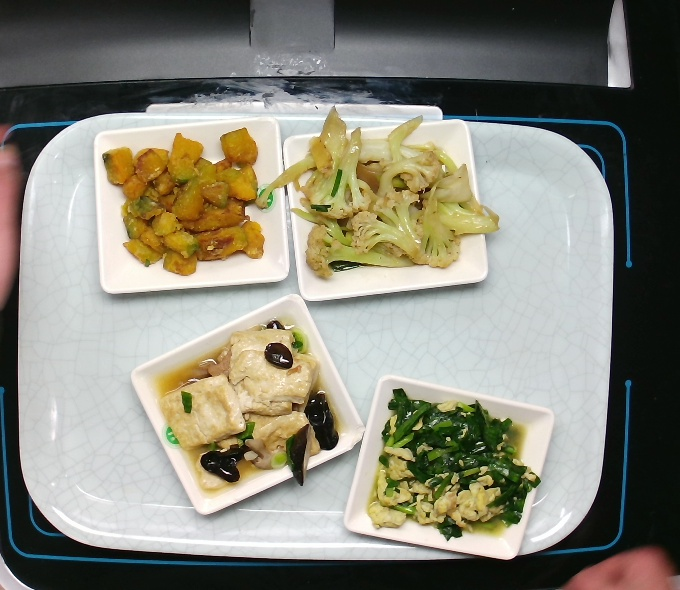wcq-DanHuangNanGua: (84, 108, 273, 282)
wcq-JiaChangDouFu: (153, 322, 342, 496)
wcq-JiuCaiJiDan: (353, 365, 542, 539)
wcq-QiuCai: (283, 111, 513, 279)
